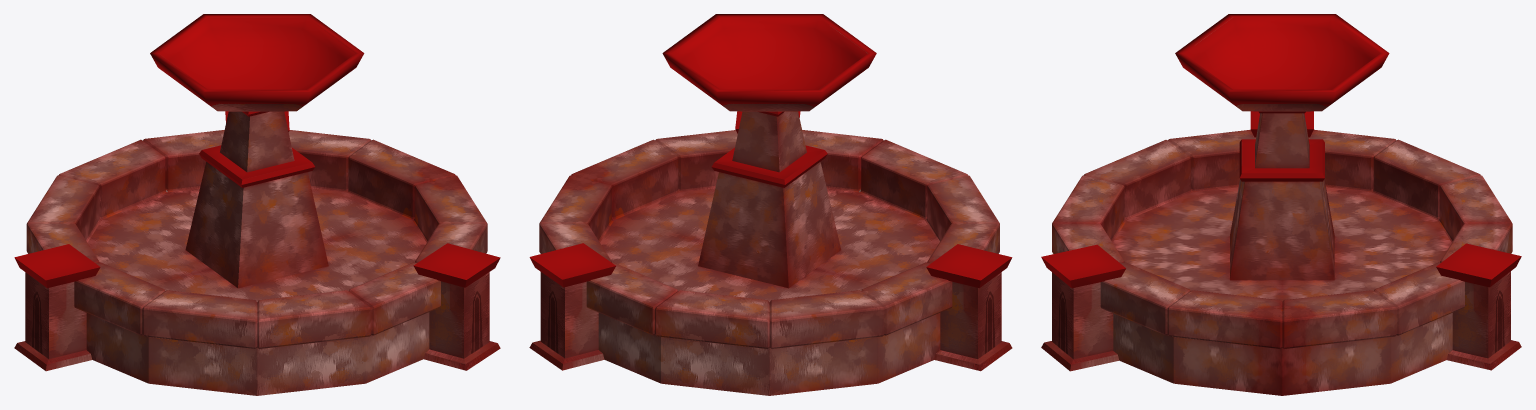
Rendered from Fuente.fbx.
3 renders of one model, left to right at view 1: azimuth 30°, elevation 25°; view 2: azimuth 150°, elevation 25°; view 3: azimuth 270°, elevation 25°, orthographic.
Visible parts, largest first — view 1: Cylinder, Cube.001, Circle, Cube, Cube.003; view 2: Cylinder, Cube.001, Circle, Cube, Cube.002; view 3: Cylinder, Circle, Cube.001, Cube.003, Cube.002.
Boxes of the visible parts, <box> form: Cylinder: <box>26,130,487,395</box>; Cube.001: <box>185,111,328,288</box>; Circle: <box>150,14,364,111</box>; Cube: <box>14,244,100,371</box>; Cube.003: <box>413,243,500,370</box>; Cylinder: <box>539,130,999,395</box>; Cube.001: <box>698,111,841,288</box>; Circle: <box>662,14,876,111</box>; Cube: <box>926,244,1012,371</box>; Cube.002: <box>529,243,615,370</box>; Cylinder: <box>1052,129,1512,395</box>; Circle: <box>1175,14,1389,111</box>; Cube.001: <box>1230,111,1334,280</box>; Cube.003: <box>1041,244,1125,371</box>; Cube.002: <box>1436,243,1521,370</box>.
Bounding box in the file's own units: 1067 × 600 × 1041.
